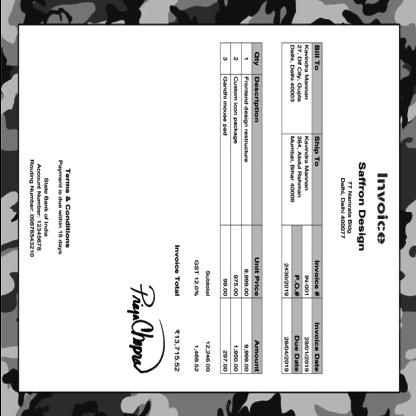Paragraph: (281, 226, 322, 374), (170, 241, 212, 375), (336, 158, 390, 254), (26, 156, 72, 258), (287, 134, 321, 204), (287, 42, 321, 106)
Table: (219, 42, 261, 374)
